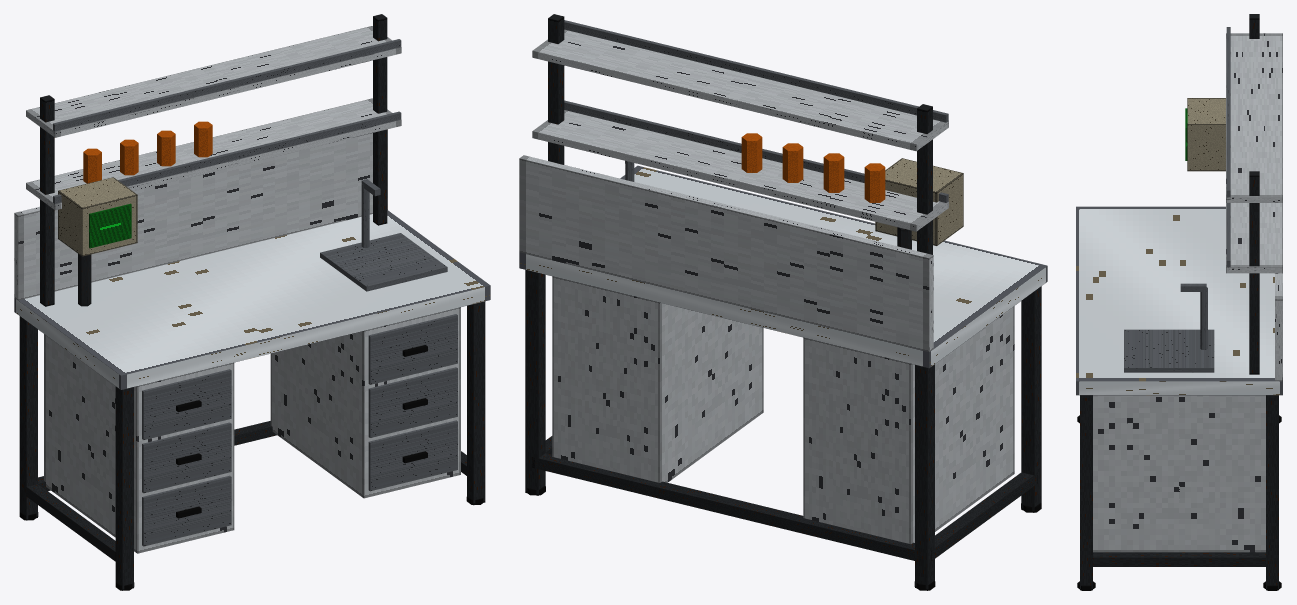
Rendered from lab_workstation.glb.
The picture shows the model from 3 angles, left to right: view 1: azimuth 30°, elevation 25°; view 2: azimuth 150°, elevation 25°; view 3: azimuth 270°, elevation 25°; orthographic projection. The views are drawn at different scales.
Parts seen in each view (by area): view 1: lab_workstation; view 2: lab_workstation; view 3: lab_workstation.
Part boxes in pixels (bbox=[...]): lab_workstation: bbox=[14, 14, 490, 590]; lab_workstation: bbox=[519, 14, 1047, 590]; lab_workstation: bbox=[1076, 14, 1282, 590].
Bounding box in the file's own units: 1.6 × 1.75 × 0.8.
1 material, 1 textured.
